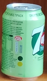sevenup: (2, 4, 44, 81)
